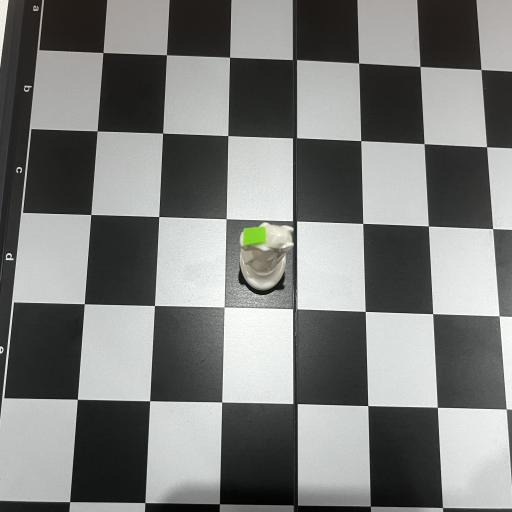White knight: (239, 222, 294, 290)
